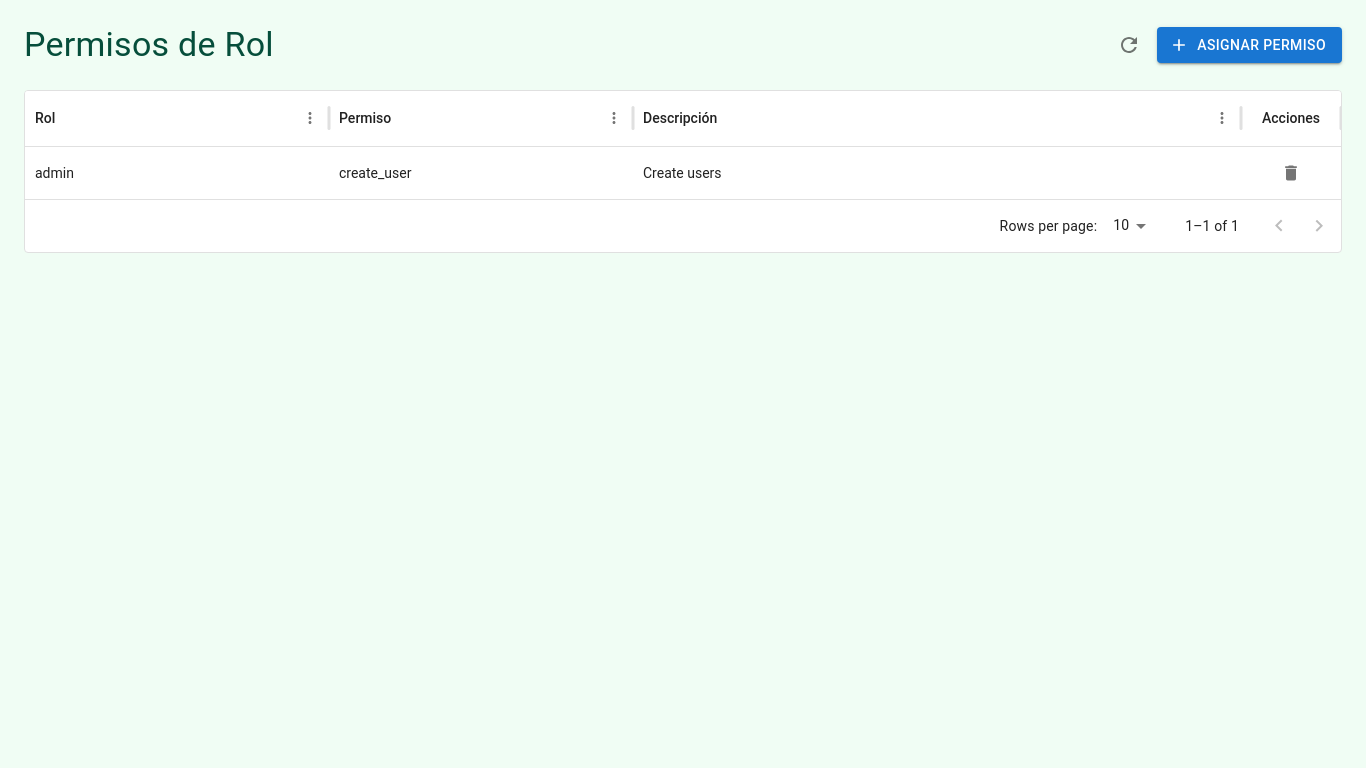
Test: RolePermissions Page › Delete Role Permission › should delete role permission successfully
The image size is (1366, 768).
Expected: the text "admin" is shown, left=35, top=165, right=74, bottom=181
What coordinates should you click on to do the following:
click the menu item with test id "DeleteIcon"
I would click on:
 (1291, 174)
Its box is left=1276, top=158, right=1306, bottom=188.
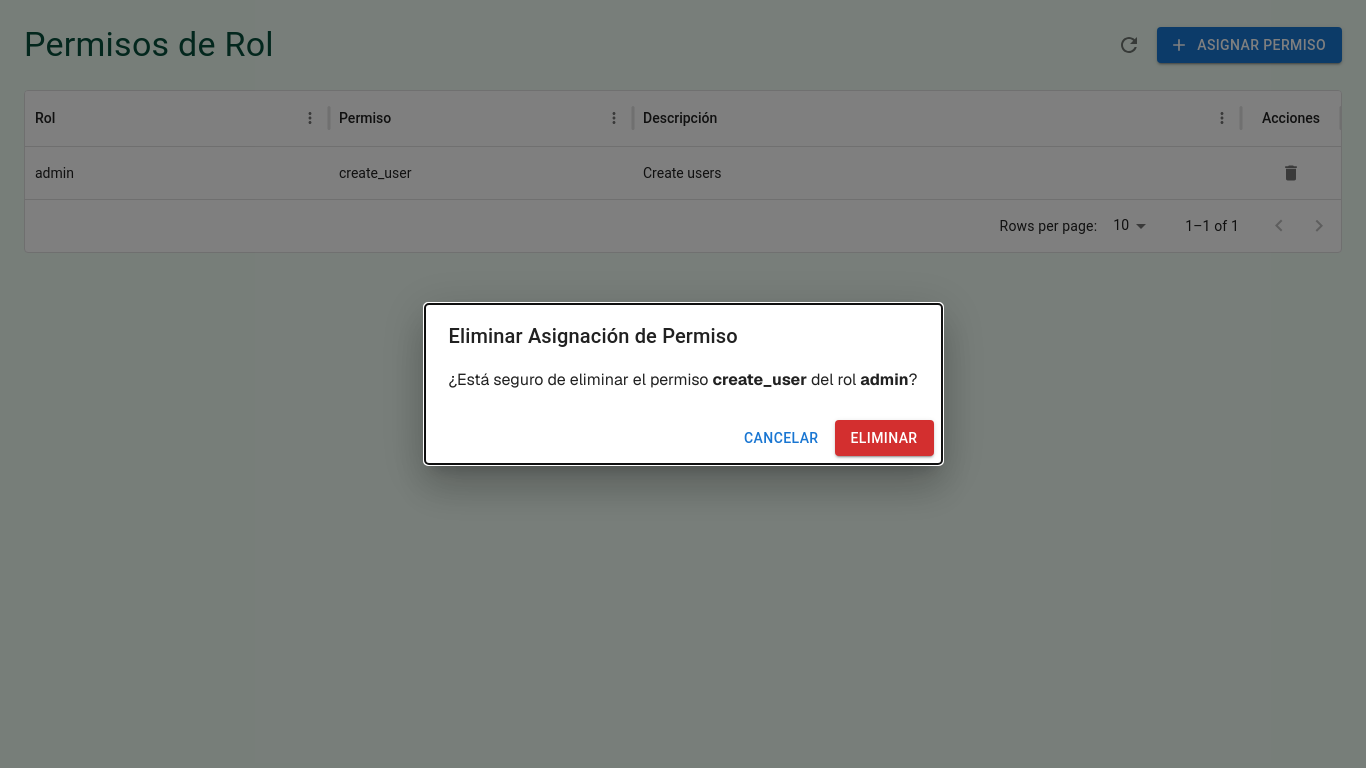
Now the heading "Eliminar Asignación de Permiso" is shown, box left=448, top=324, right=738, bottom=348
What coordinates should you click on to do the following:
click the button "Eliminar"
I would click on:
 (884, 438)
Its box is left=834, top=420, right=934, bottom=456.
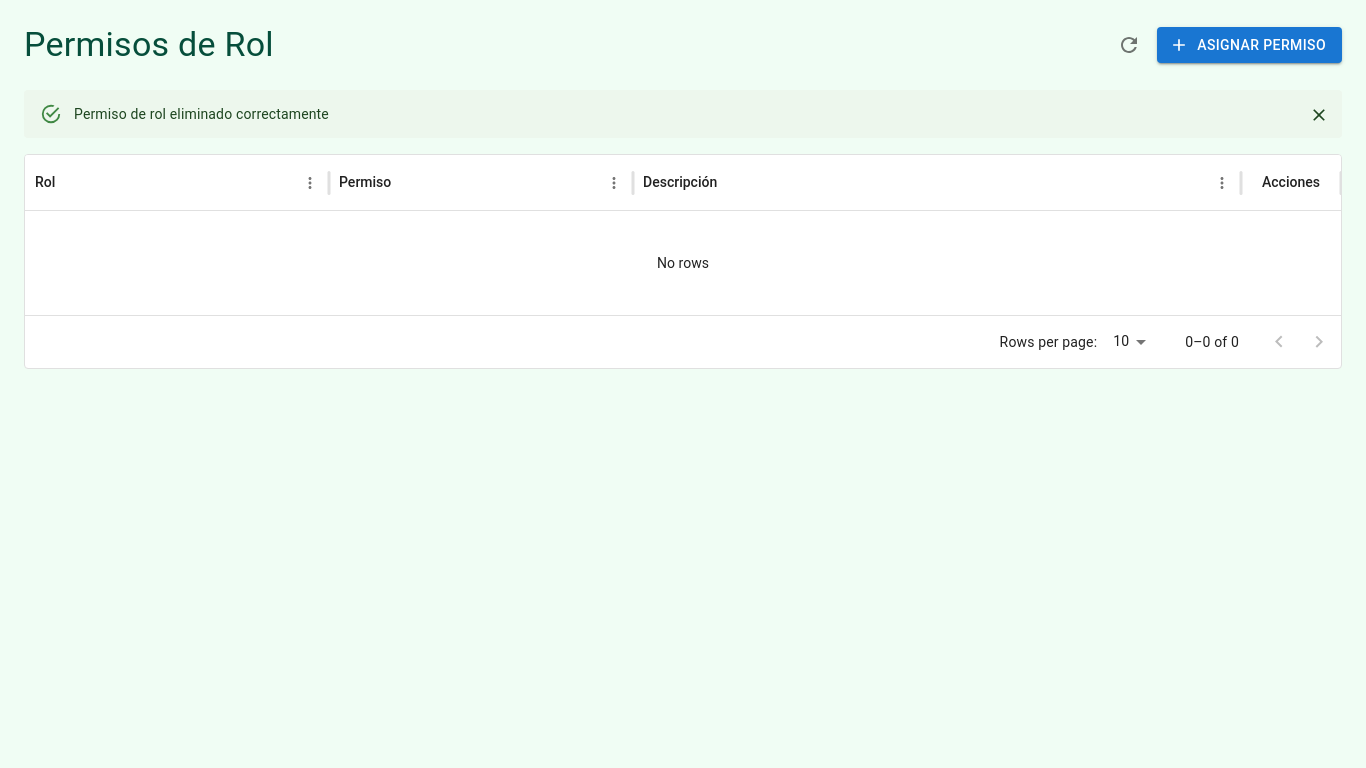
Now the text "Permiso de rol eliminado correctamente" is shown, box left=74, top=106, right=329, bottom=122
Now the dialog is gone
